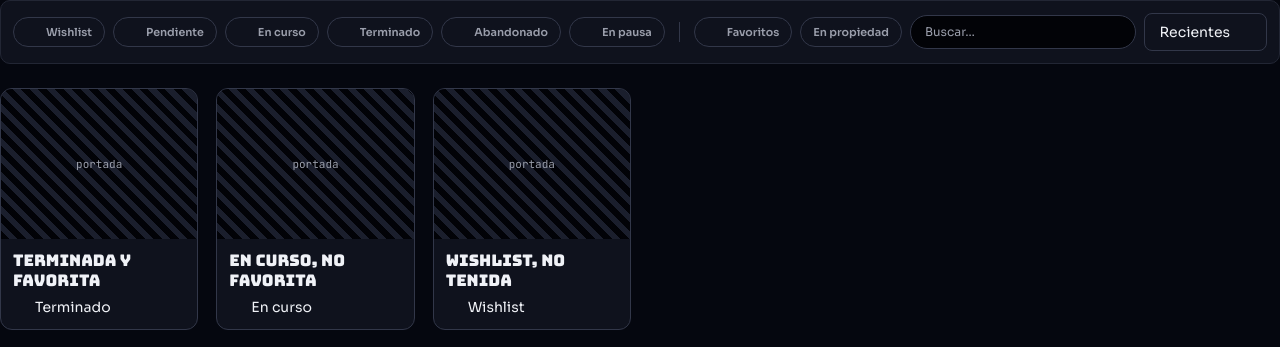
CategoryWorksBrowser › filters by status when a status chip is pressed
Click the button "En curso": (272, 32) [225,17,319,47]
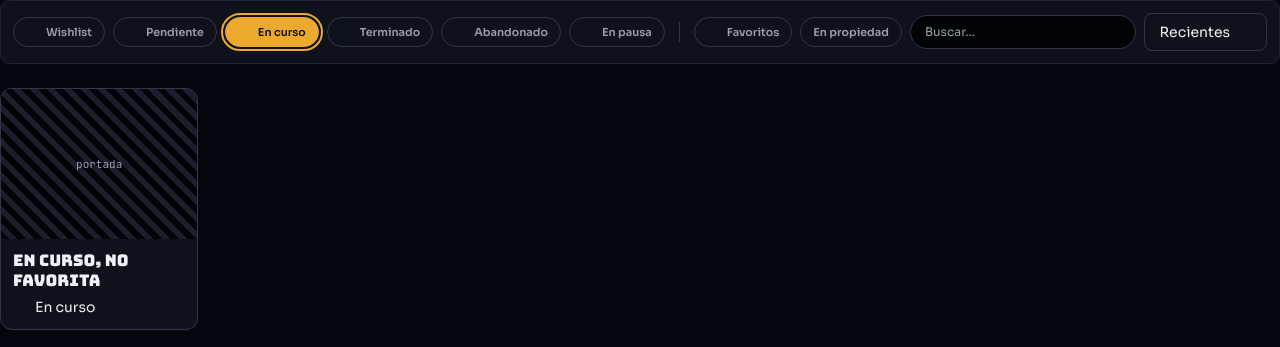
Expected: the text "En curso, no favorita" is shown, [13,250,129,291]
Expected: the link "Terminada y favorita" is gone
Expected: the link "Wishlist, no tenida" is gone
